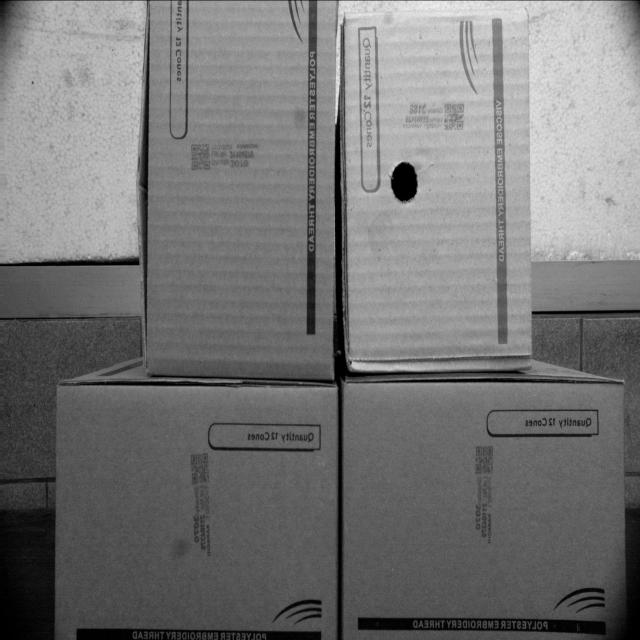cardboxes: (342, 378, 624, 639), (142, 0, 332, 384), (57, 380, 336, 639), (345, 19, 529, 372)
